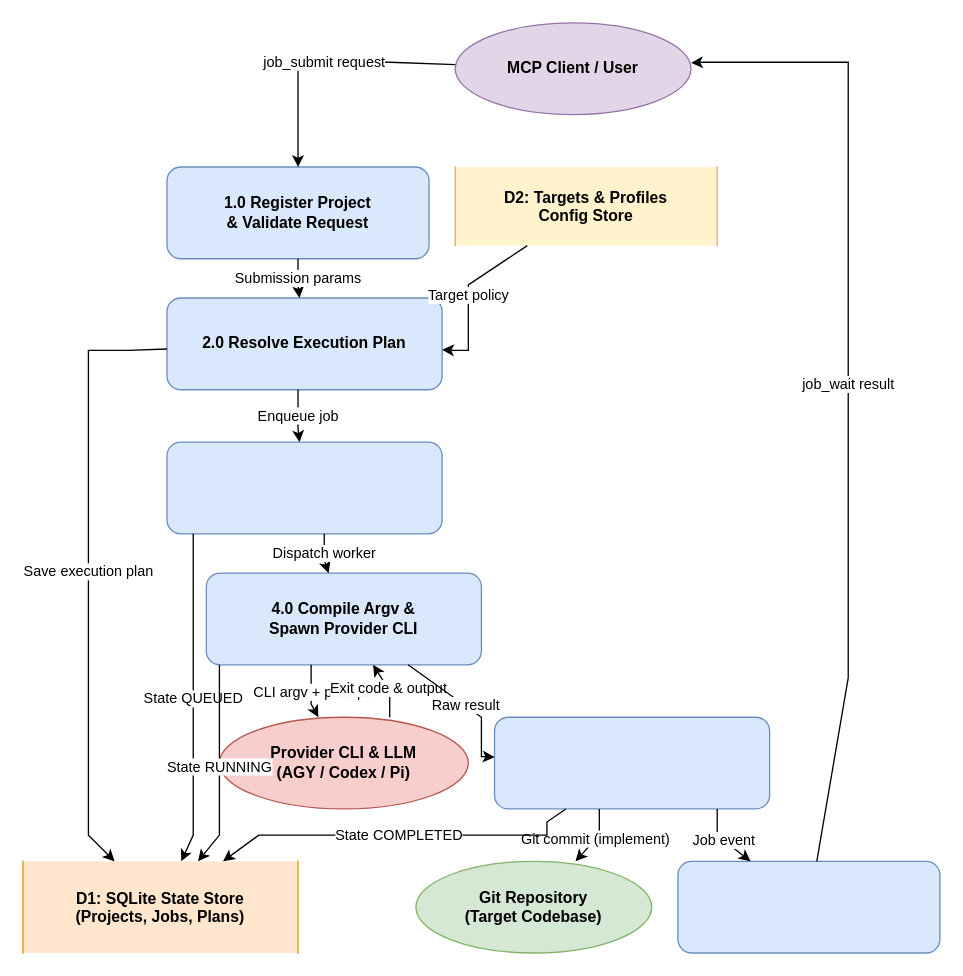
This 963x976 diagram has some shape labels left out. Each missing label, with the centre of its shape:
3.0 Enqueue & Schedule Per-Project FIFO: (304,487)
5.0 Commit Git Changes & Settle Job Result: (631,762)
6.0 Publish Event & Return Job View: (808,906)
